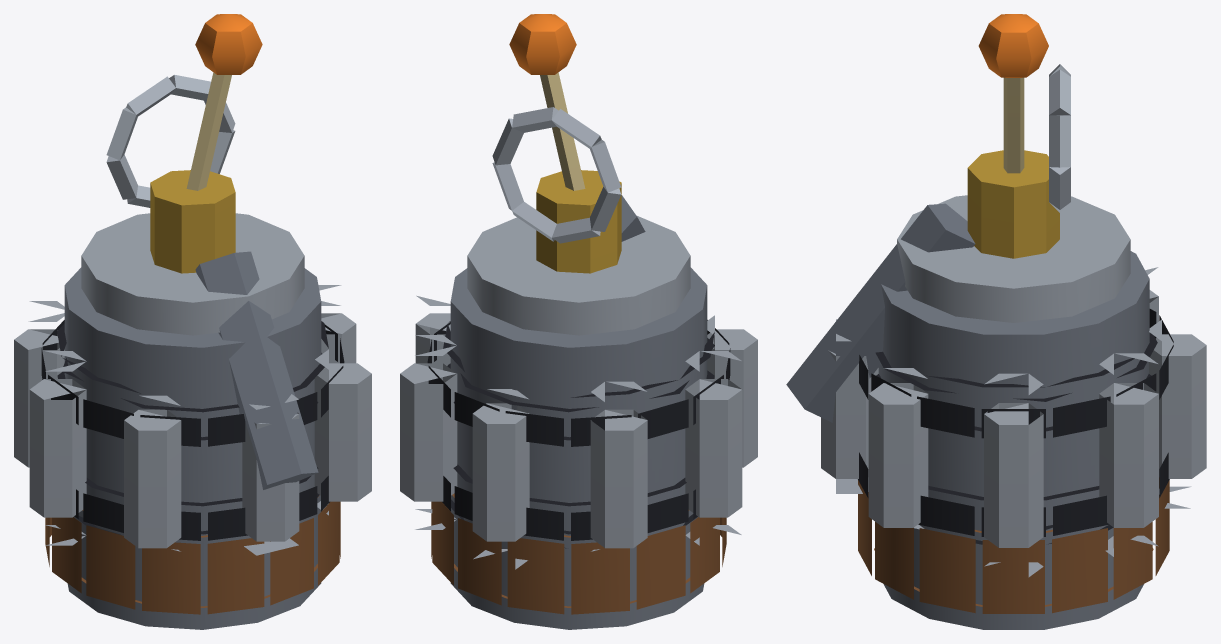
File: item_grenade.glb
3 renders of one model, left to right at view 1: azimuth 30°, elevation 25°; view 2: azimuth 150°, elevation 25°; view 3: azimuth 270°, elevation 25°, orthographic. The views are drawn at different scales.
Visible parts, largest first — view 1: item_grenade, item_grenade_detail; view 2: item_grenade, item_grenade_detail; view 3: item_grenade, item_grenade_detail.
Boxes of the visible parts, x1,y1,x2,y2 form: item_grenade: [14, 14, 371, 629]; item_grenade_detail: [106, 74, 318, 489]; item_grenade: [400, 14, 757, 629]; item_grenade_detail: [492, 107, 645, 243]; item_grenade: [821, 14, 1206, 629]; item_grenade_detail: [786, 64, 1070, 422].
Bounding box in the file's own units: 0.1391 × 0.235 × 0.1548.
